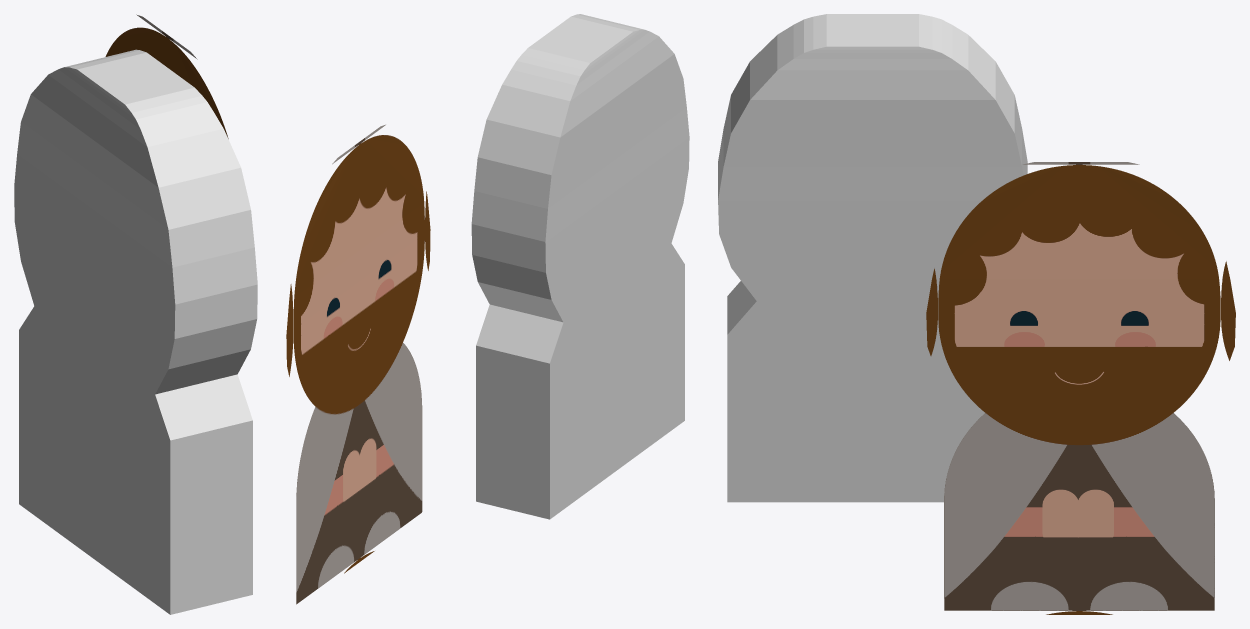
File: testobjekt.dae
The picture shows the model from 3 angles, left to right: view 1: azimuth 30°, elevation 25°; view 2: azimuth 150°, elevation 25°; view 3: azimuth 270°, elevation 25°; orthographic projection. The views are drawn at different scales.
Visible parts, largest first — view 1: Cube, Cube_001; view 2: Cube, Cube_001; view 3: Cube, Cube_001.
Part boxes in pixels (<box>): Cube: <box>14,49,257,614</box>; Cube_001: <box>105,14,228,138</box>; Cube: <box>471,14,689,519</box>; Cube_001: <box>286,124,430,604</box>; Cube: <box>718,14,1027,502</box>; Cube_001: <box>926,162,1235,614</box>.
Size of the model in its own units: 1.23 by 3.18 by 3.51.
Materials: 2 (1 with a texture image).
